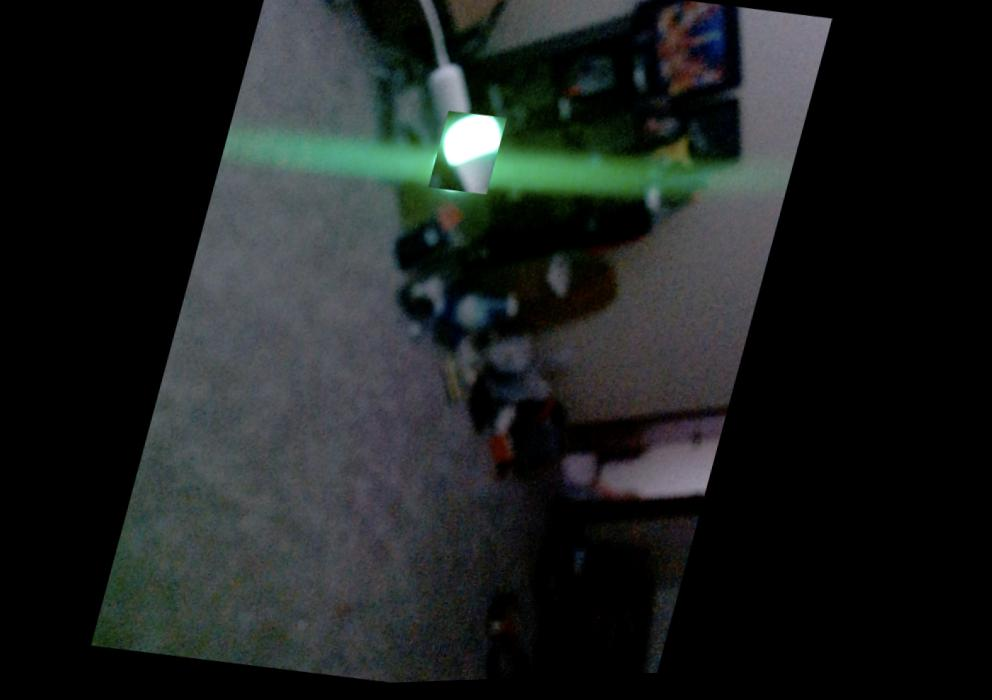TubeLight: (431, 113, 509, 200)
